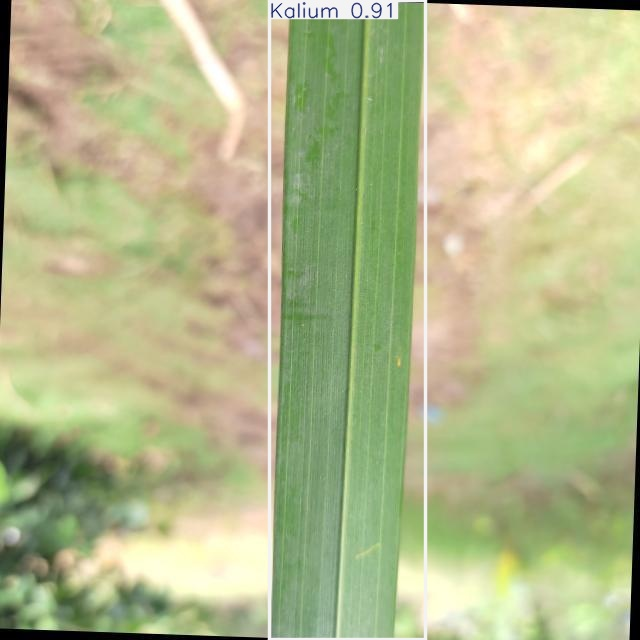Kalium: (270, 0, 426, 640)
